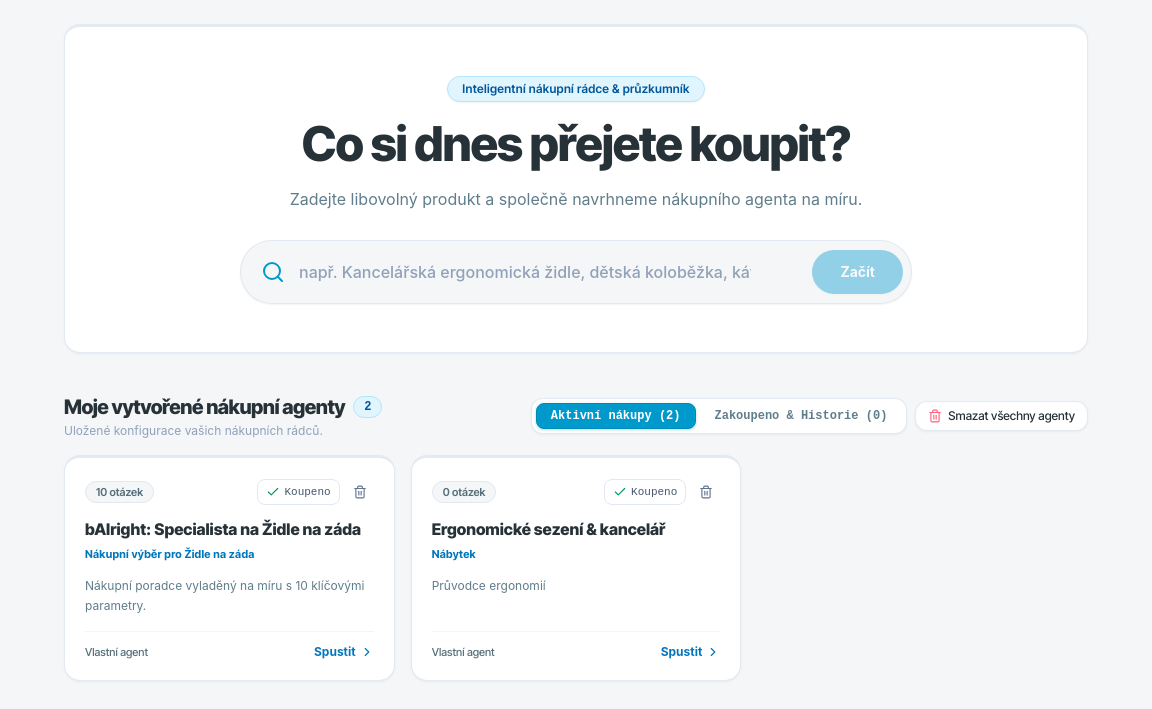
Test: AgentCategoryLauncher Unit Test Suite (PRD v1) › 6. Kliknutí na doporučený alternativní parametr jej zařadí do aktivních parametrů
The width and height of the screenshot is (1152, 709).
Replace the text in the field with placeholder "Kancelářská ergonomická židle" with "boty": (598, 272) x1=285 y1=241 x2=911 y2=303
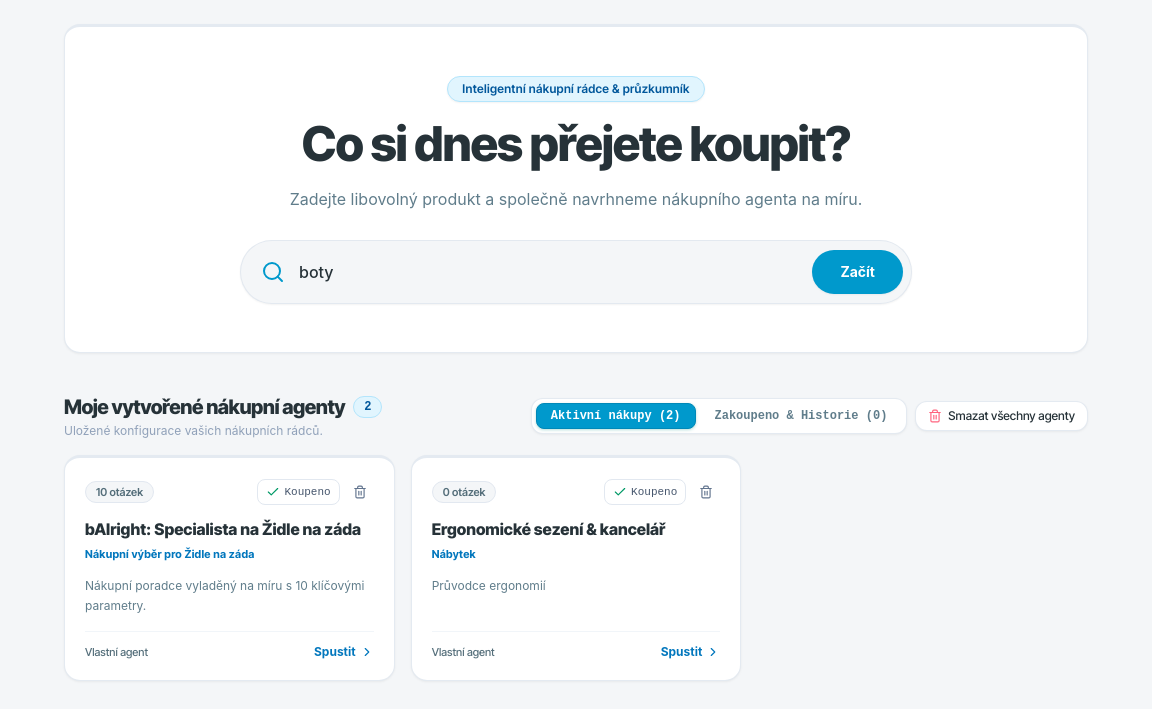
Click the button "Začít": (858, 272) x1=812 y1=250 x2=903 y2=294
(page scrolled)
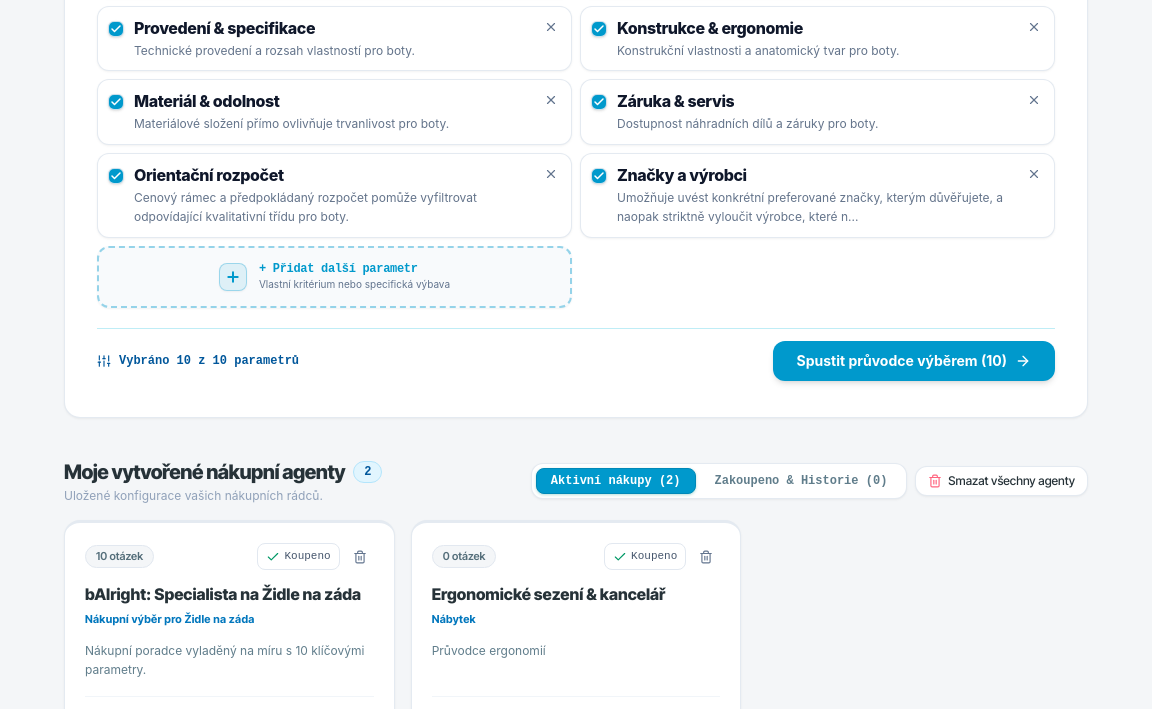
Result: the text "Vybráno 10 z 10 parametrů" is shown at x1=119 y1=352 x2=299 y2=368
